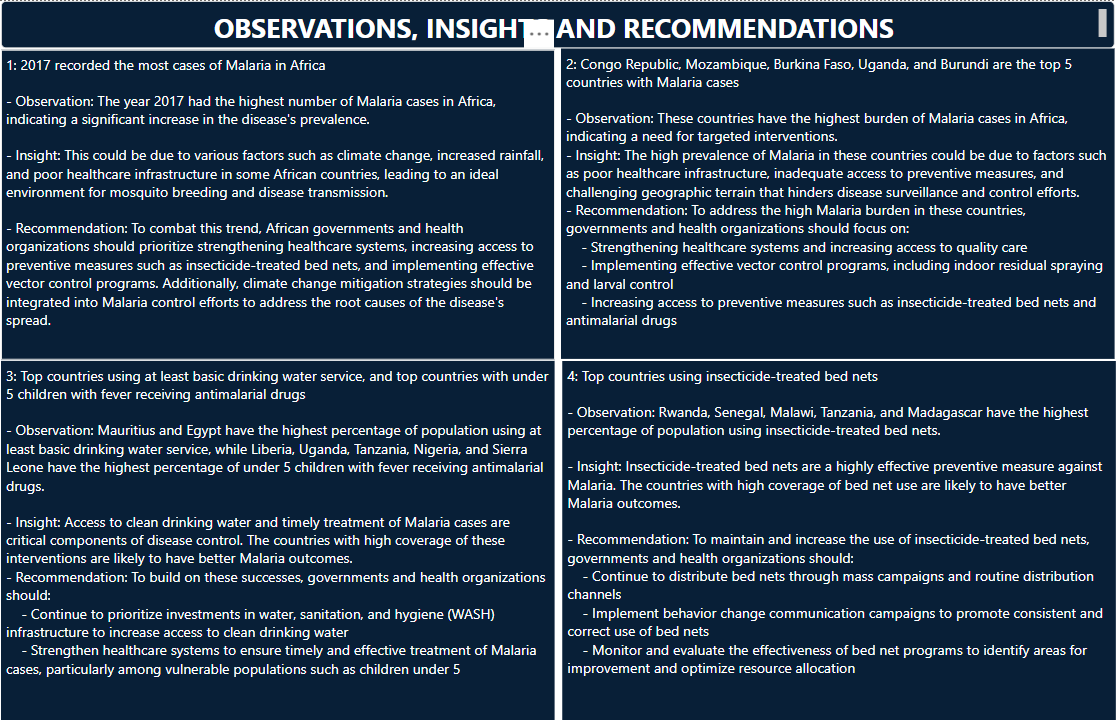

The dashboard page shown, as its layout file describes it:
{"tool":"powerbi","page":{"name":"Page 2","canvas":[1280,720],"ordinal":1},"visuals":[{"type":"textbox","box":[10,0,1113.8,47.5],"z":0},{"type":"textbox","box":[10,48.8,553.8,310],"z":1000},{"type":"textbox","box":[570,47.5,553.8,310],"z":2000},{"type":"textbox","box":[10,360,553.8,360],"z":3000},{"type":"textbox","box":[571.2,360,553.8,360],"z":4000}]}

Visuals, with their boxes on the page's 1280x720 design canvas (x1, y1, x2, y2). These are canvas units, not pixel positions in the 1116x720 screenshot, which may show the page scaled, cropped or inside an application window:
textbox: box=[10, 0, 1124, 48]
textbox: box=[10, 49, 564, 359]
textbox: box=[570, 48, 1124, 358]
textbox: box=[10, 360, 564, 720]
textbox: box=[571, 360, 1125, 720]
